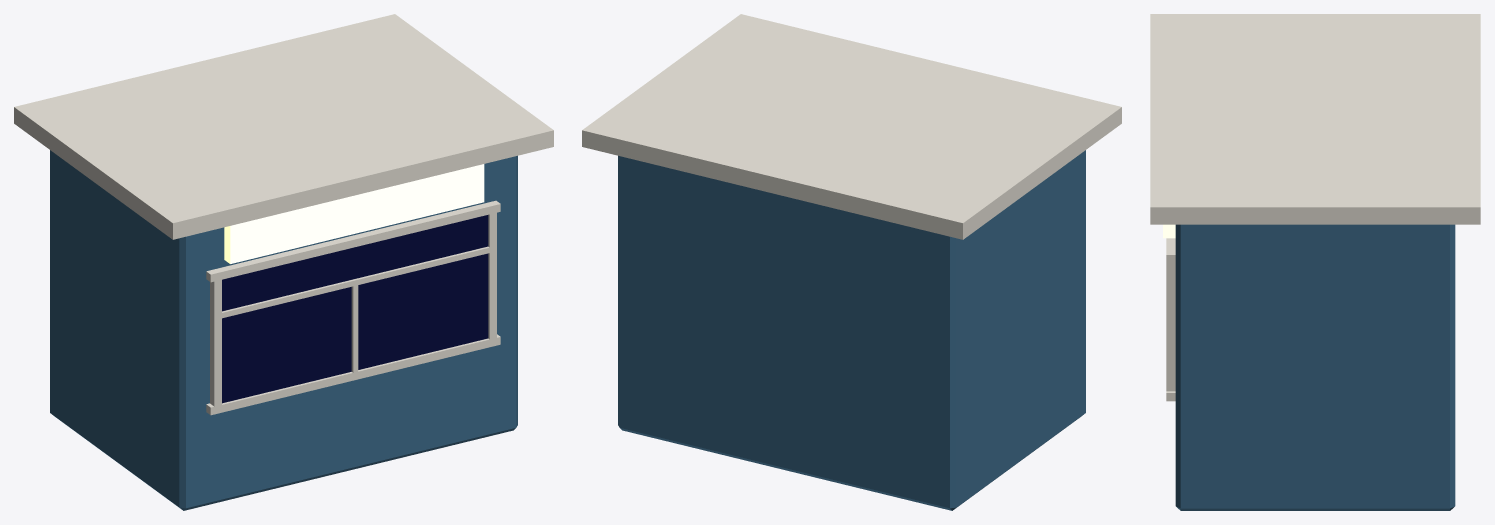
The model's file is kiosk.glb.
3 renders of one model, left to right at view 1: azimuth 30°, elevation 25°; view 2: azimuth 150°, elevation 25°; view 3: azimuth 270°, elevation 25°, orthographic. The views are drawn at different scales.
Visible parts, largest first — view 1: kiosk; view 2: kiosk; view 3: kiosk.
Boxes of the visible parts, <box> form: kiosk: <box>14,14,553,510</box>; kiosk: <box>582,14,1121,510</box>; kiosk: <box>1150,14,1480,510</box>.
Size of the model in its own units: 3.6 by 2.75 by 2.6.
